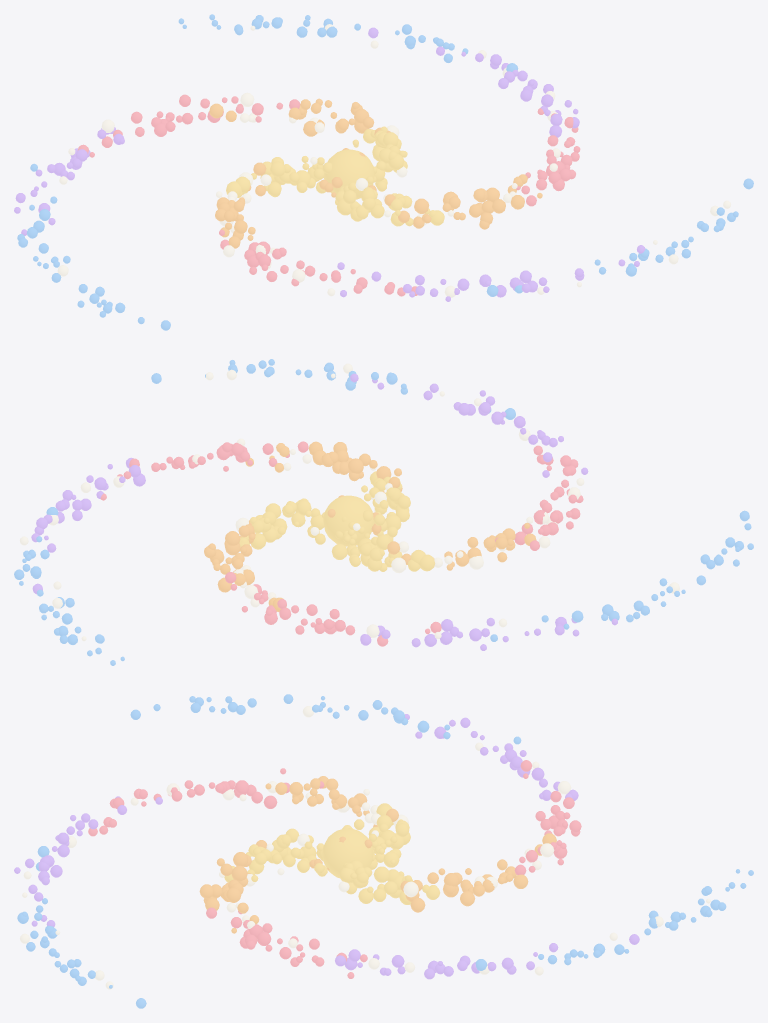
The model's file is salon_diorama.glb.
3 renders of one model, top to bottom at view 1: azimuth 30°, elevation 25°; view 2: azimuth 150°, elevation 25°; view 3: azimuth 270°, elevation 25°, orthographic.
Visible parts, largest first — view 1: Sphere.480; view 2: Sphere.480; view 3: Sphere.480.
Part boxes in pixels (x1,y1,x2,y2): Sphere.480: [324, 149, 374, 199]; Sphere.480: [323, 495, 374, 546]; Sphere.480: [322, 828, 373, 878].
Bounding box in the file's own units: 8.46 × 0.6 × 8.6.
